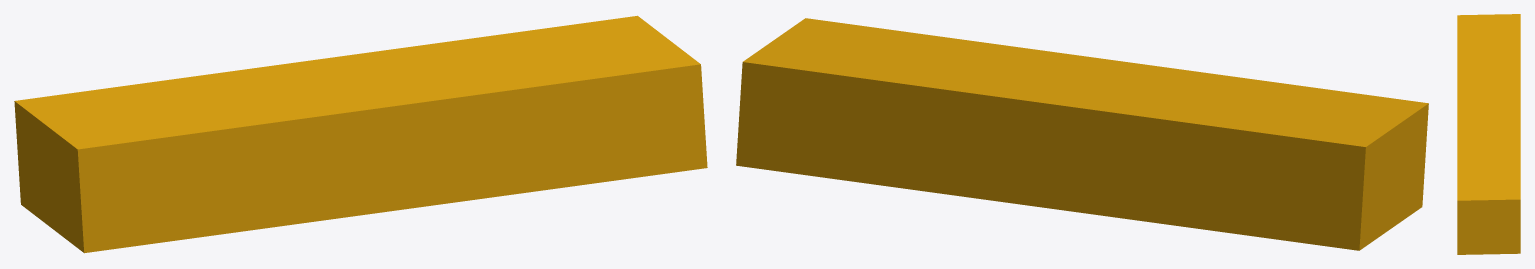
The model's file is PAPAfrita.fbx.
3 renders of one model, left to right at view 1: azimuth 30°, elevation 25°; view 2: azimuth 150°, elevation 25°; view 3: azimuth 270°, elevation 25°, orthographic. The views are drawn at different scales.
Parts seen in each view (by area): view 1: Cube; view 2: Cube; view 3: Cube.
Boxes of the visible parts, <box> form: Cube: <box>14,15,707,253</box>; Cube: <box>736,18,1428,250</box>; Cube: <box>1457,14,1520,254</box>.
Size of the model in its own units: 204 by 53.91 by 35.34.
